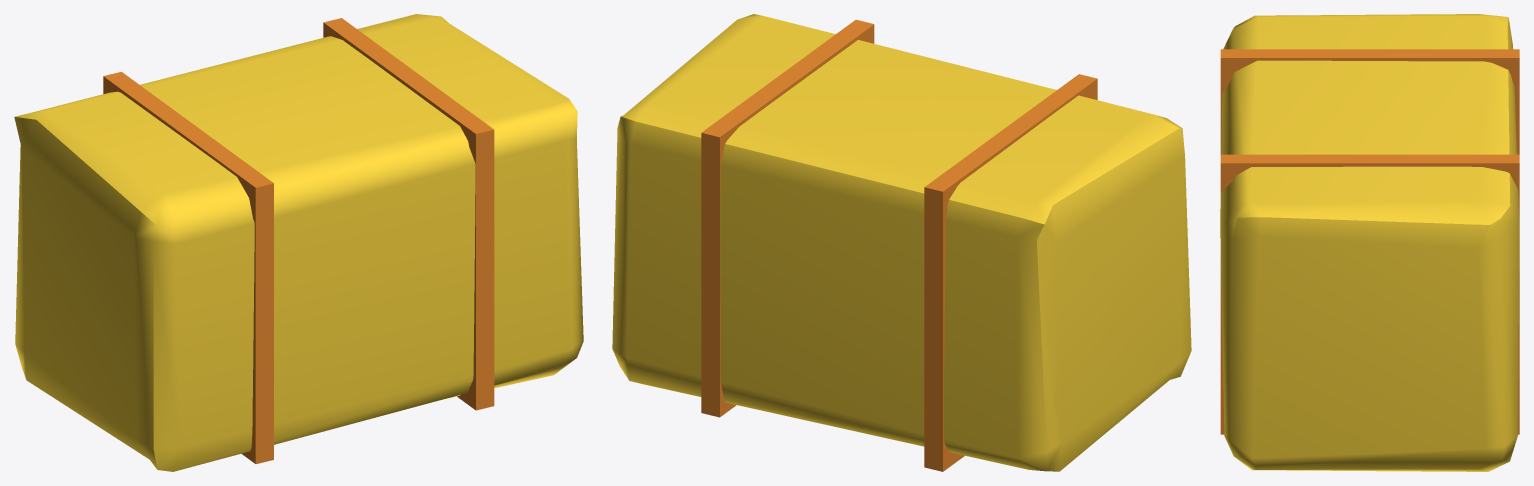
The model's file is HayBale.fbx.
3 views of the same model, side by side, from view 1: azimuth 30°, elevation 25°; view 2: azimuth 150°, elevation 25°; view 3: azimuth 270°, elevation 25° (orthographic). The views are drawn at different scales.
Parts seen in each view (by area): view 1: HayBale; view 2: HayBale; view 3: HayBale.
Boxes of the visible parts, x1=… form: HayBale: x1=14, y1=14, x2=583, y2=471; HayBale: x1=612, y1=14, x2=1191, y2=471; HayBale: x1=1220, y1=14, x2=1519, y2=471.
Bounding box in the file's own units: 2.44 × 1.45 × 1.44.
1 material, 1 textured.
